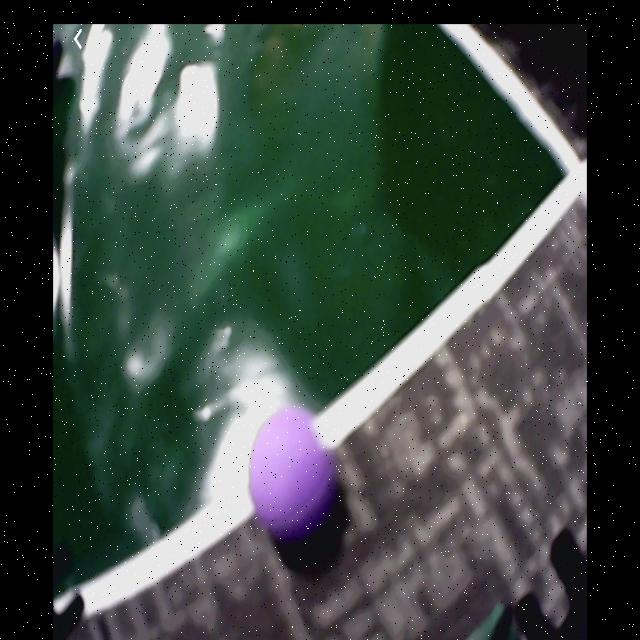ball: (248, 403, 335, 543)
